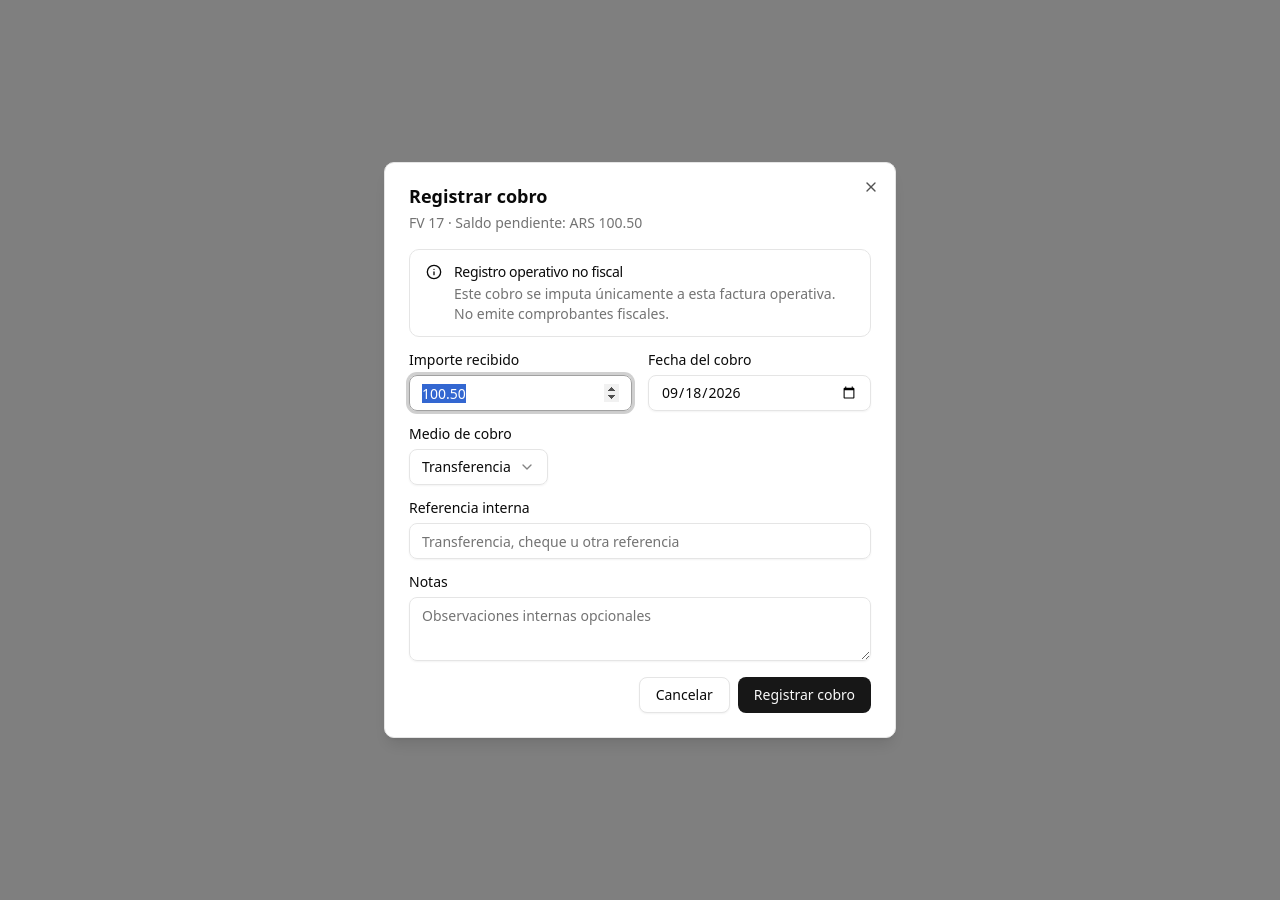
Test: CobroFormDialog backend flow › rejects malformed calendar dates before submission
The width and height of the screenshot is (1280, 900).
Clear the date field labelled "Fecha del cobro". click: (760, 393)
box: [648, 375, 871, 411]
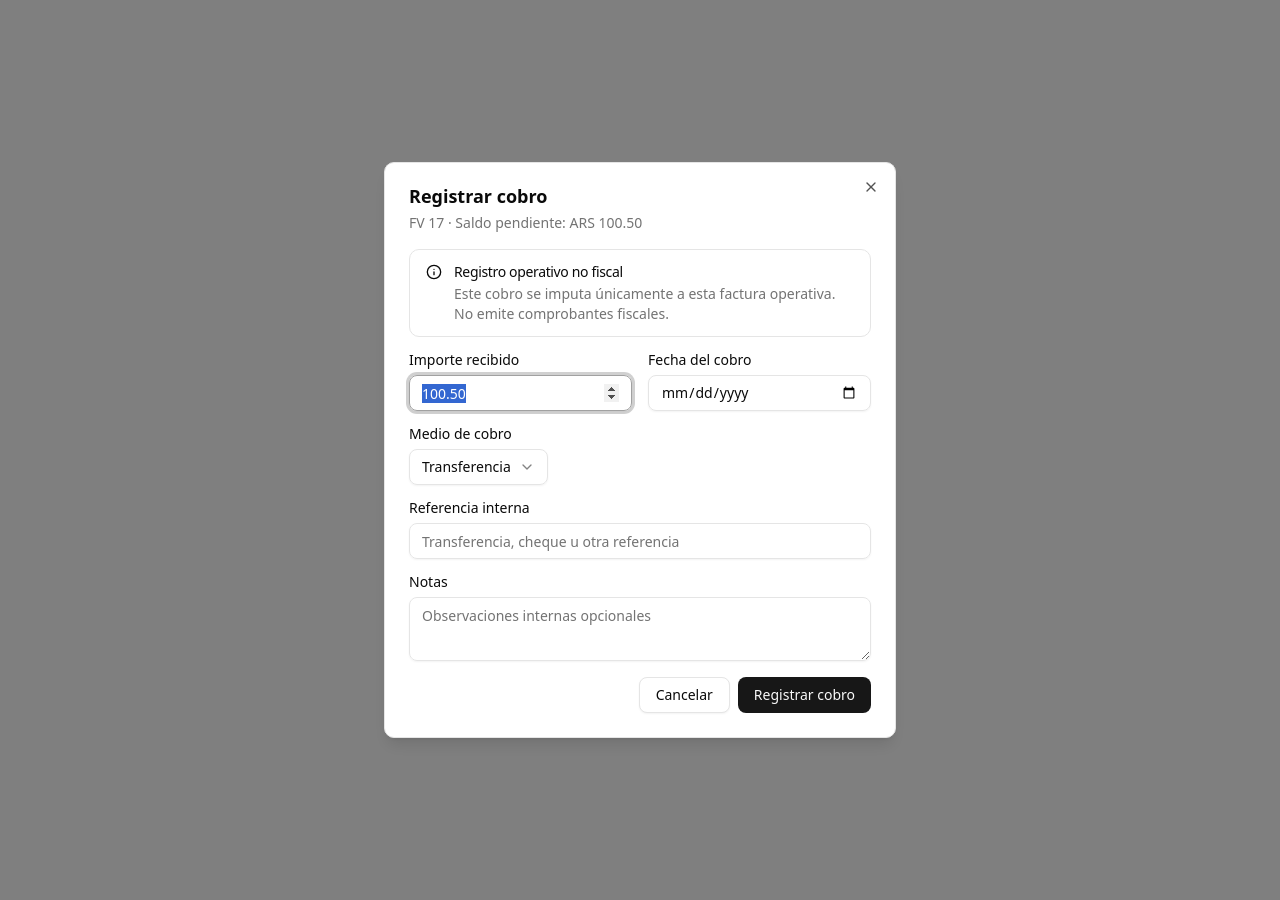
Click the button "Registrar cobro". click: (804, 695)
box: [738, 677, 871, 713]
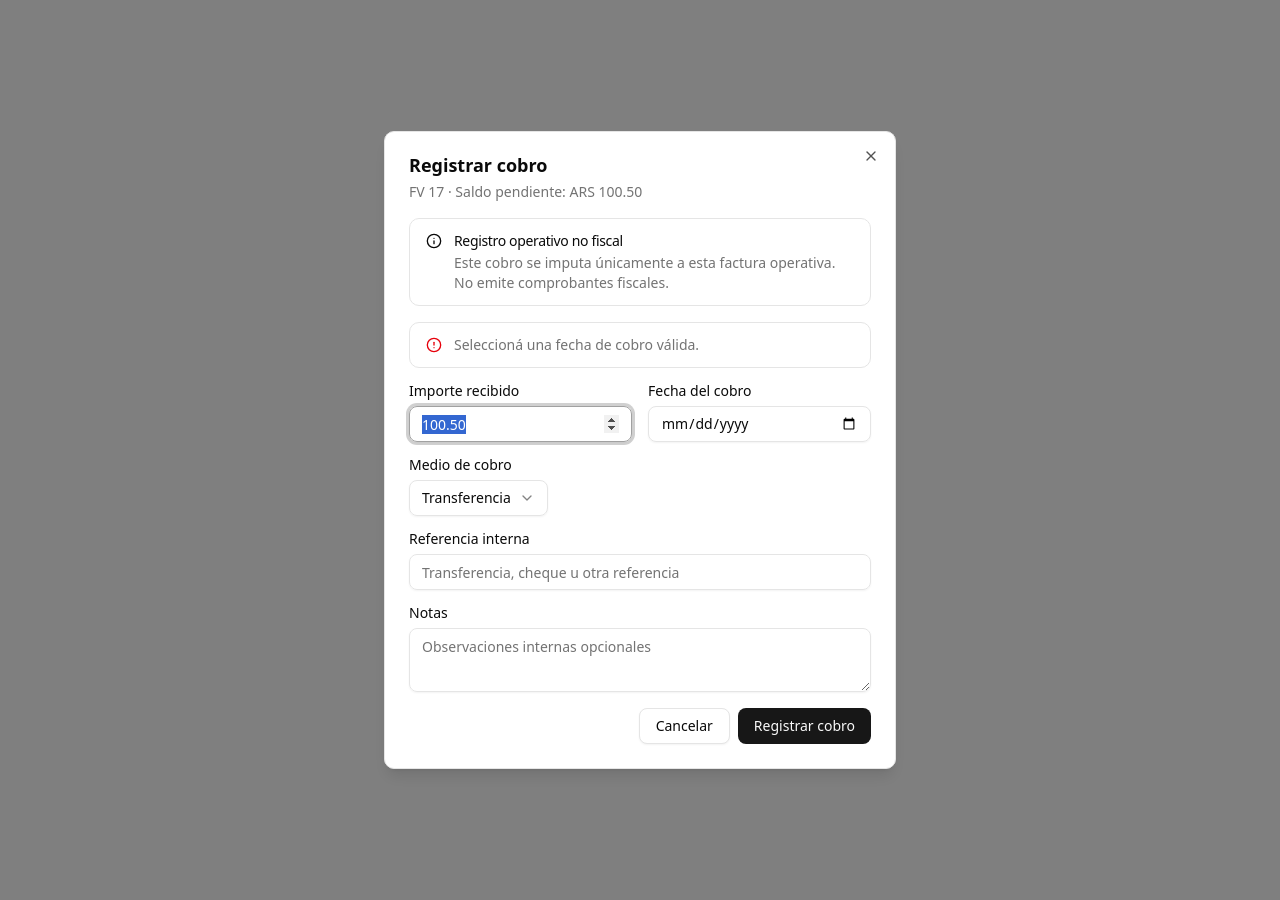
Expected: the text "Seleccioná una fecha de cobro válida." is shown, [454, 335, 699, 354]
